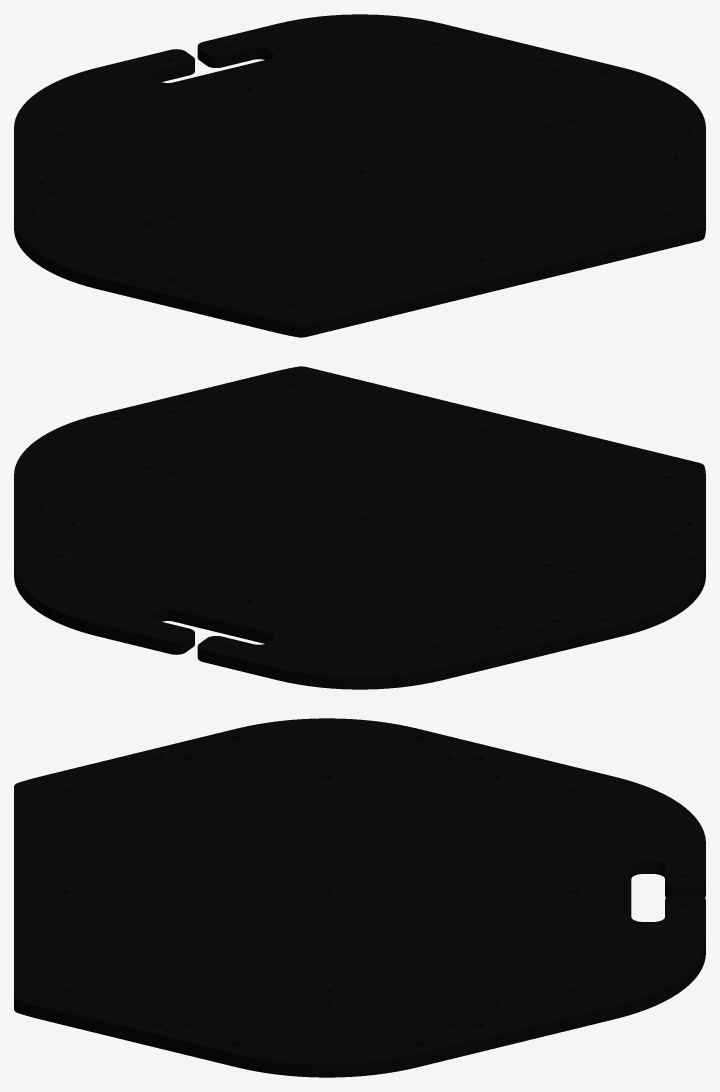
File: disk_02_hex.dae
3 views of the same model, one above another, from view 1: azimuth 30°, elevation 25°; view 2: azimuth 150°, elevation 25°; view 3: azimuth 270°, elevation 25° (orthographic). The views are drawn at different scales.
Visible parts, largest first — view 1: node; view 2: node; view 3: node.
Part boxes in pixels (x1,y1,x2,y2): node: (14,14,705,337); node: (14,366,705,689); node: (14,718,705,1077).
Size of the model in its own units: 340 by 6 by 287.
1 material, 1 textured.
